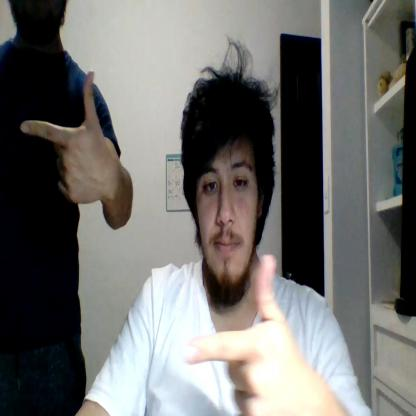G: (183, 254, 311, 416), (21, 70, 103, 204)
